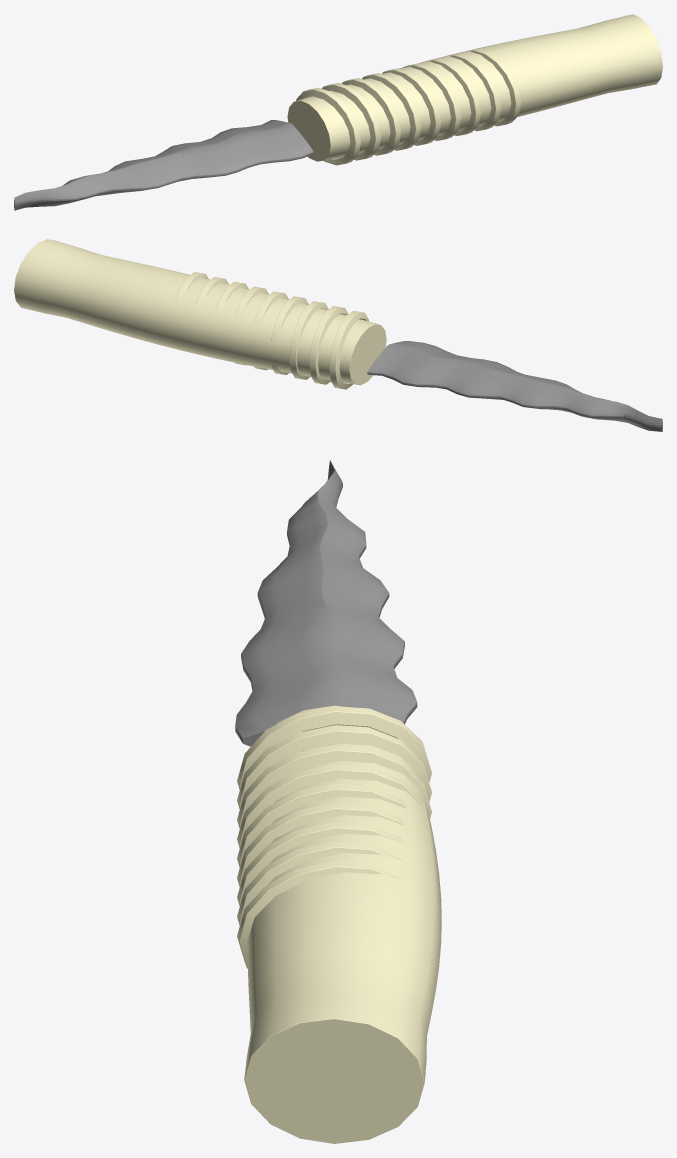
Rendered from stone_knife.glb.
The picture shows the model from 3 angles, top to bottom: view 1: azimuth 30°, elevation 25°; view 2: azimuth 150°, elevation 25°; view 3: azimuth 270°, elevation 25°; orthographic projection. The views are drawn at different scales.
Visible parts, largest first — view 1: stone_knife; view 2: stone_knife; view 3: stone_knife.
Boxes of the visible parts, box(x1,y1,x2,y2) form: stone_knife: box(14, 14, 662, 210); stone_knife: box(14, 239, 662, 431); stone_knife: box(235, 460, 441, 1143).
Bounding box in the file's own units: 0.2045 × 0.0214 × 0.0293.
